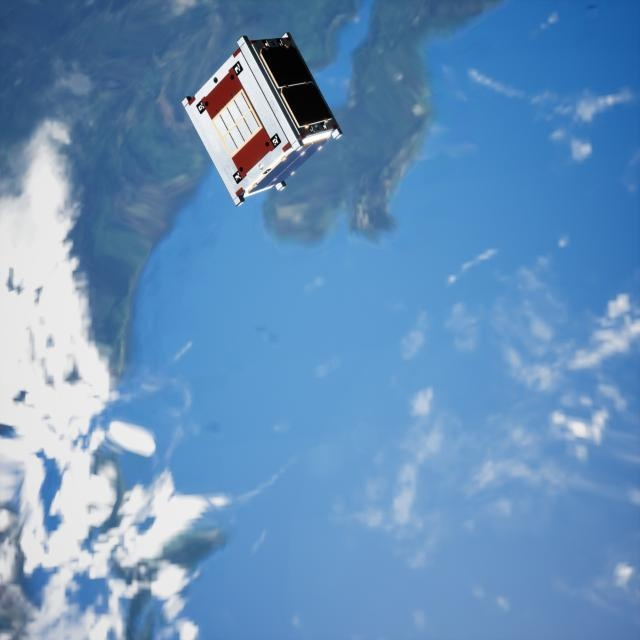satellite: (174, 32, 348, 206)
